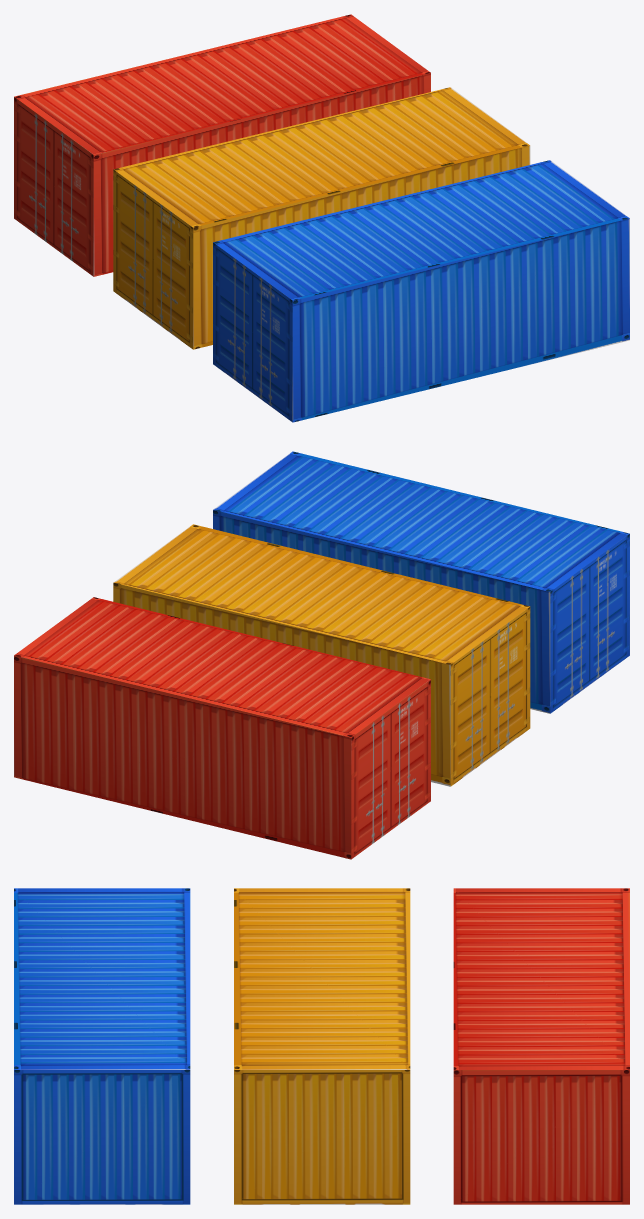
Rendered from container.fbx.
3 views of the same model, one above another, from view 1: azimuth 30°, elevation 25°; view 2: azimuth 150°, elevation 25°; view 3: azimuth 270°, elevation 25° (orthographic). The views are drawn at different scales.
Visible parts, largest first — view 1: Box002, Box001, Box003; view 2: Box003, Box002, Box001; view 3: Box001, Box002, Box003.
Part boxes in pixels (x1=…): Box002: x1=213, y1=160, x2=629, y2=422; Box001: x1=113, y1=87, x2=530, y2=349; Box003: x1=14, y1=14, x2=430, y2=276; Box003: x1=14, y1=597, x2=430, y2=859; Box002: x1=213, y1=451, x2=629, y2=713; Box001: x1=113, y1=524, x2=530, y2=786; Box001: x1=234, y1=888, x2=410, y2=1204; Box002: x1=14, y1=888, x2=190, y2=1204; Box003: x1=453, y1=888, x2=629, y2=1204.
Size of the model in its own units: 732 by 253 by 1048.
